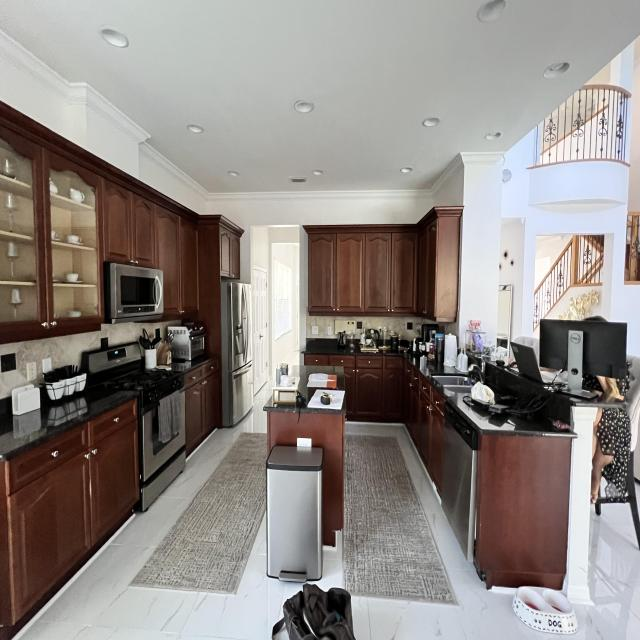Appliance_Dishwasher: (445, 405, 480, 561)
Appliance_Fridge: (220, 277, 254, 429)
Appliance_Oven: (87, 343, 185, 512)
Cabinet_Glass: (0, 103, 104, 346)
Cabinet_Raised_Panel: (0, 401, 139, 629), (304, 355, 442, 500), (307, 212, 438, 318), (99, 179, 197, 315), (185, 361, 221, 456), (218, 218, 244, 282)
Countertop_Granite: (0, 391, 138, 456), (433, 376, 579, 436), (308, 338, 343, 355)
